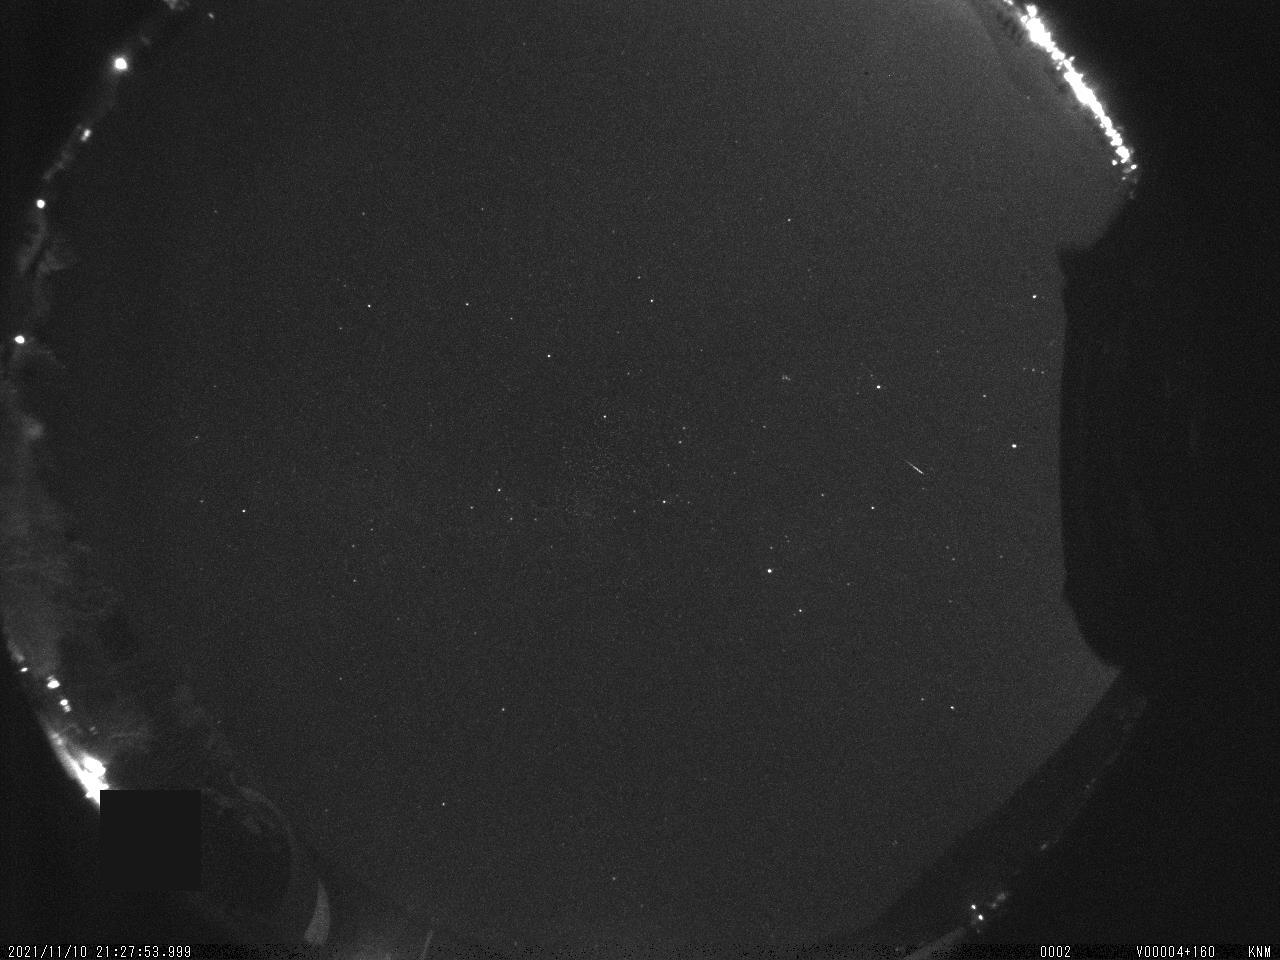meteor: (893, 449, 930, 482)
